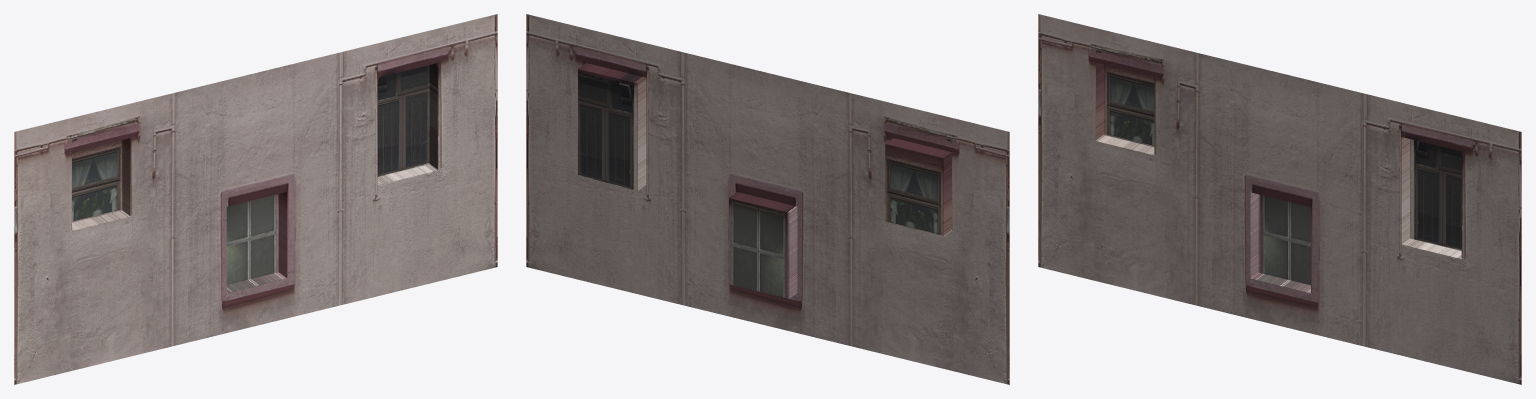
The model's file is CT_Building_Piece_10.fbx.
3 views of the same model, side by side, from view 1: azimuth 30°, elevation 25°; view 2: azimuth 150°, elevation 25°; view 3: azimuth 330°, elevation 25° (orthographic).
Visible parts, largest first — view 1: CT_Building_Piece_10; view 2: CT_Building_Piece_10; view 3: CT_Building_Piece_10.
Boxes of the visible parts, left/top/right/bottom form: CT_Building_Piece_10: left=14, top=14, right=497, bottom=384; CT_Building_Piece_10: left=526, top=14, right=1009, bottom=384; CT_Building_Piece_10: left=1038, top=14, right=1521, bottom=384.
Size of the model in its own units: 512 by 256 by 15.
